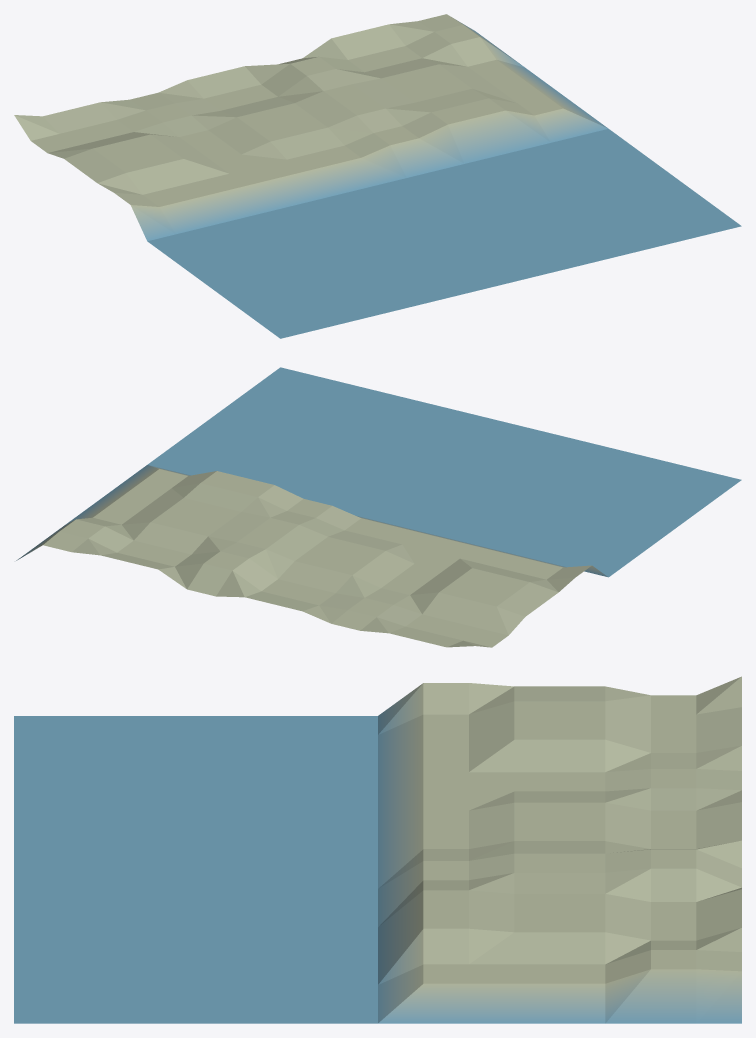
The picture shows the model from 3 angles, top to bottom: view 1: azimuth 30°, elevation 25°; view 2: azimuth 150°, elevation 25°; view 3: azimuth 270°, elevation 25°; orthographic projection. The views are drawn at different scales.
Bounding box in the file's own units: 32 × 1.91 × 32.
